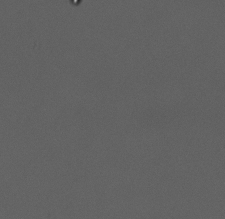Living Cell: (68, 1, 83, 5)
